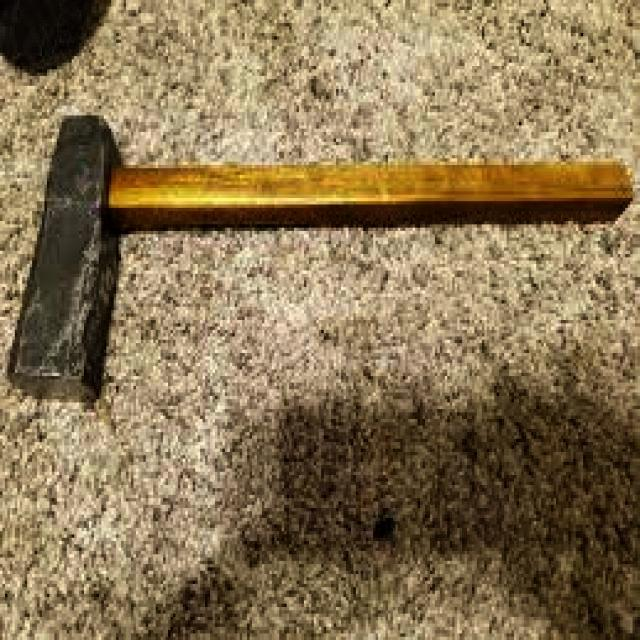hammer: (7, 106, 640, 416)
